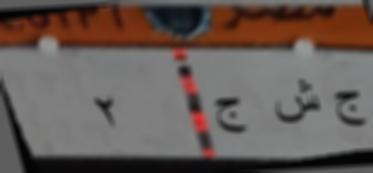2: (89, 90, 125, 137)
jeem: (214, 86, 258, 140), (330, 83, 368, 134)
sheen: (269, 73, 324, 134)
